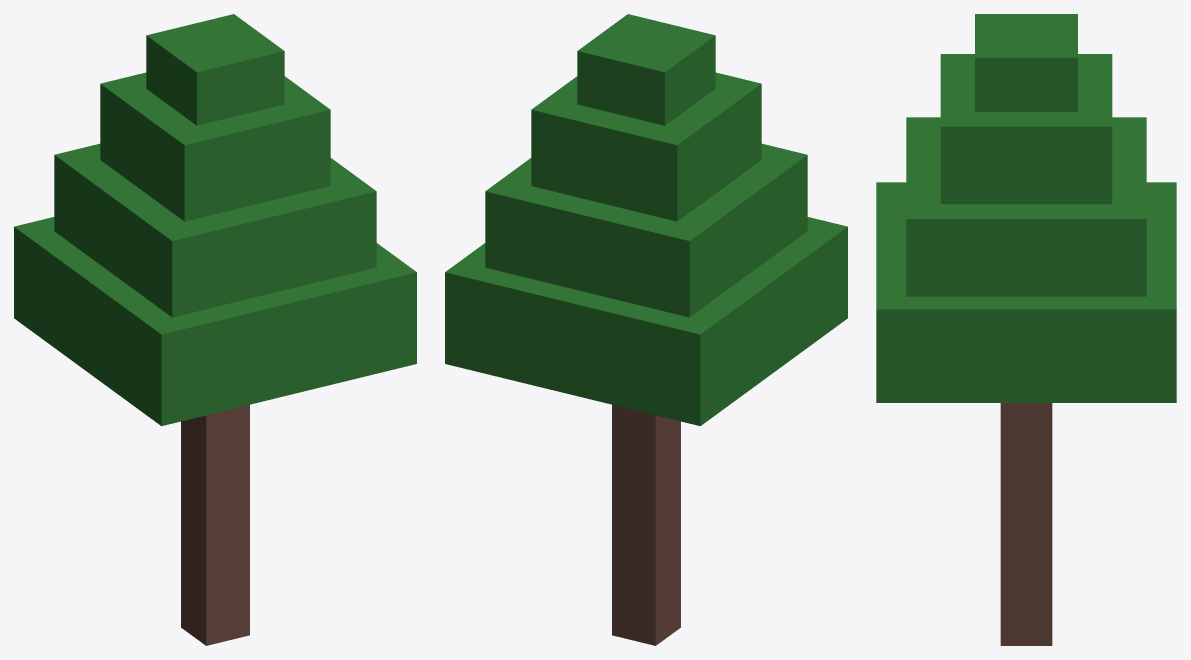
File: tree_medium.obj
3 renders of one model, left to right at view 1: azimuth 30°, elevation 25°; view 2: azimuth 150°, elevation 25°; view 3: azimuth 270°, elevation 25°, orthographic.
Size of the model in its own units: 3.5 by 7.7 by 3.5.
